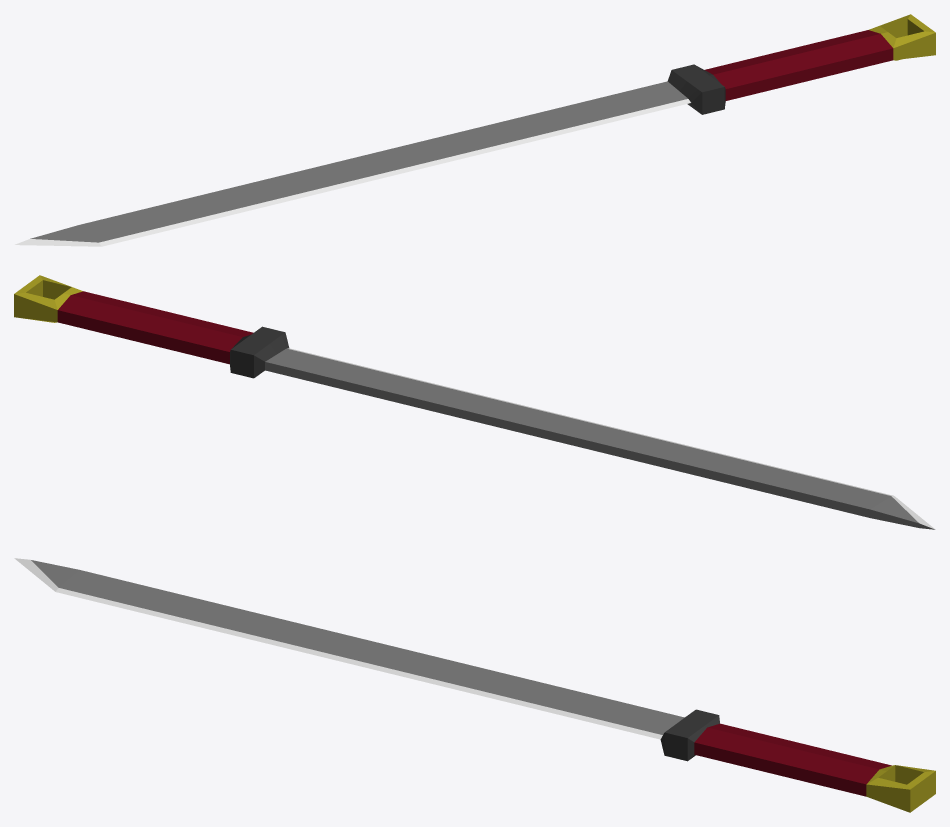
The model's file is Katana.fbx.
The picture shows the model from 3 angles, top to bottom: view 1: azimuth 30°, elevation 25°; view 2: azimuth 150°, elevation 25°; view 3: azimuth 330°, elevation 25°; orthographic projection. The views are drawn at different scales.
Visible parts, largest first — view 1: Cube; view 2: Cube; view 3: Cube.
Part boxes in pixels (left/top/right/bottom): Cube: left=15, top=14, right=935, bottom=246; Cube: left=14, top=275, right=935, bottom=529; Cube: left=14, top=558, right=935, bottom=812.
Bounding box in the file's own units: 700 × 16.83 × 41.4.
